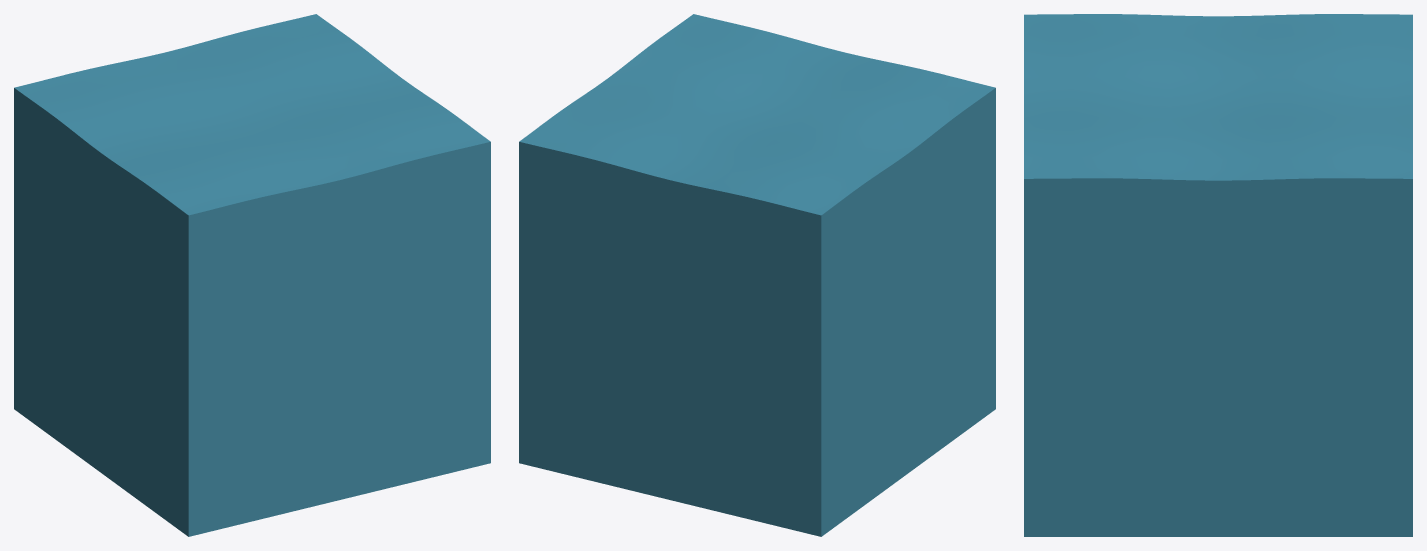
File: slpool_wave22.glb
3 renders of one model, left to right at view 1: azimuth 30°, elevation 25°; view 2: azimuth 150°, elevation 25°; view 3: azimuth 270°, elevation 25°, orthographic. The views are drawn at different scales.
Visible parts, largest first — view 1: poolWater; view 2: poolWater; view 3: poolWater.
Part boxes in pixels (x1,y1,x2,y2): poolWater: (14, 14, 490, 536); poolWater: (519, 14, 995, 536); poolWater: (1024, 14, 1412, 536).
Size of the model in its own units: 2 by 2.04 by 2.
